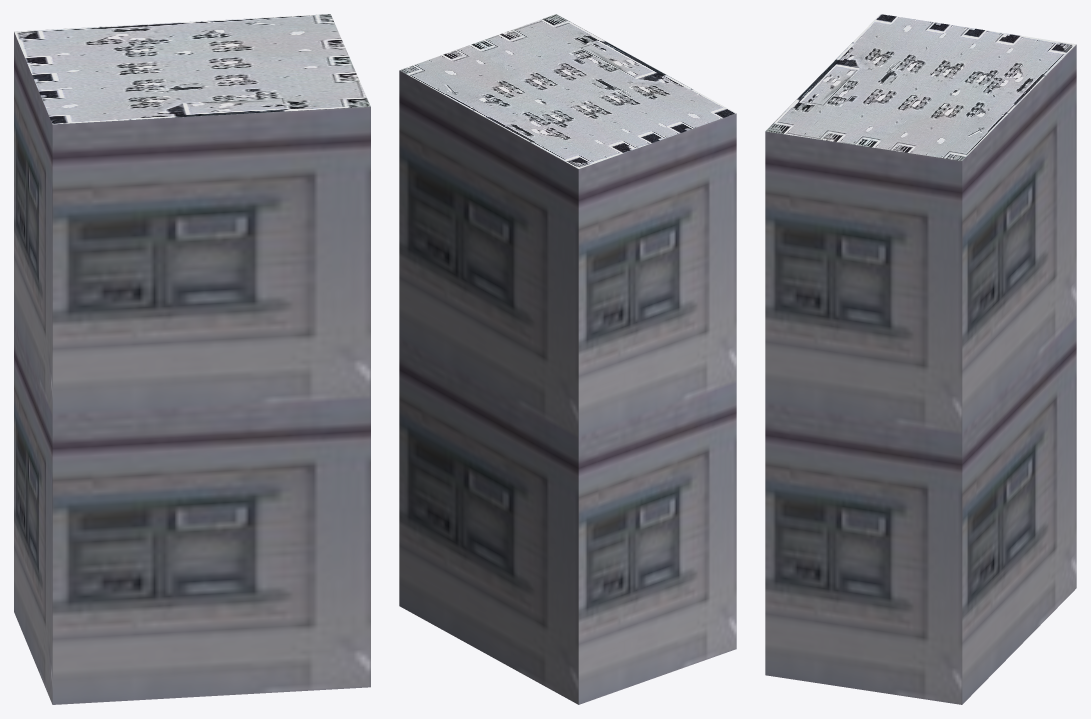
File: ResTex__2571.fbx
3 renders of one model, left to right at view 1: azimuth 30°, elevation 25°; view 2: azimuth 150°, elevation 25°; view 3: azimuth 270°, elevation 25°, orthographic. The views are drawn at different scales.
Parts seen in each view (by area): view 1: CityEngineMaterial_1_m, CityEngineMaterial_8_m; view 2: CityEngineMaterial_1_m, CityEngineMaterial_8_m; view 3: CityEngineMaterial_1_m, CityEngineMaterial_8_m.
Part boxes in pixels (bbox=[...]): CityEngineMaterial_1_m: bbox=[14, 32, 370, 704]; CityEngineMaterial_8_m: bbox=[14, 14, 370, 124]; CityEngineMaterial_1_m: bbox=[399, 70, 736, 704]; CityEngineMaterial_8_m: bbox=[400, 14, 736, 168]; CityEngineMaterial_1_m: bbox=[765, 45, 1076, 704]; CityEngineMaterial_8_m: bbox=[765, 14, 1076, 160].
Bounding box in the file's own units: 3.48 × 6 × 3.12.
2 materials, 2 textured.
